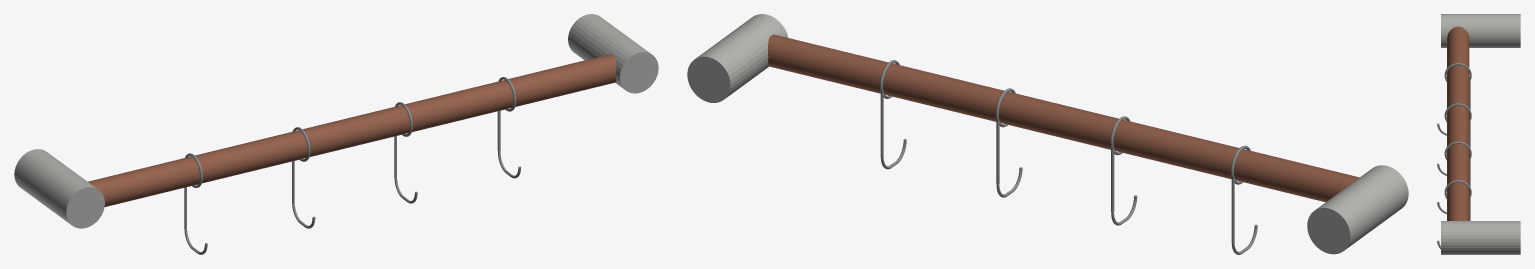
File: Hanger.fbx
3 renders of one model, left to right at view 1: azimuth 30°, elevation 25°; view 2: azimuth 150°, elevation 25°; view 3: azimuth 270°, elevation 25°, orthographic. The views are drawn at different scales.
Parts seen in each view (by area): view 1: HangerLbar, HangerHolder2, HangerHolder, Hanger.003, Hanger, Hanger.001, Hanger.002; view 2: HangerLbar, HangerHolder2, HangerHolder, Hanger, Hanger.001, Hanger.002, Hanger.003; view 3: HangerLbar, HangerHolder, HangerHolder2, Hanger.001, Hanger, Hanger.002, Hanger.003.
Part boxes in pixels (x1,y1,x2,y2): HangerLbar: (88,54,616,206); HangerHolder2: (14,149,104,228); HangerHolder: (568,14,658,93); Hanger.003: (497,77,520,178); Hanger: (292,127,315,228); Hanger.001: (184,153,207,254); Hanger.002: (394,102,417,203); HangerLbar: (768,34,1359,202); HangerHolder2: (1307,165,1408,254); HangerHolder: (687,14,788,102); Hanger: (1110,116,1137,225); Hanger.001: (1231,145,1257,254); Hanger.002: (995,88,1022,197); Hanger.003: (880,60,906,169); HangerLbar: (1447,26,1469,220); HangerHolder: (1441,221,1520,254); HangerHolder2: (1441,14,1520,47); Hanger.001: (1437,63,1471,135); Hanger: (1437,103,1471,175); Hanger.002: (1437,141,1471,213); Hanger.003: (1437,180,1471,248).
Size of the model in its own units: 153 by 24.64 by 24.47.
